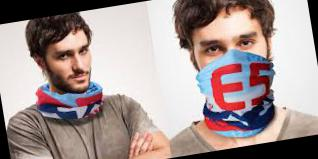mask_weared_incorrect: (44, 41, 106, 107)
with_mask: (194, 25, 273, 96)
